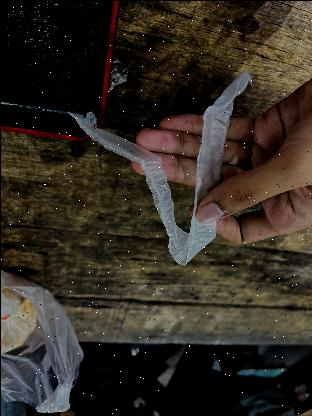Others: (68, 63, 252, 266), (0, 262, 84, 416)
